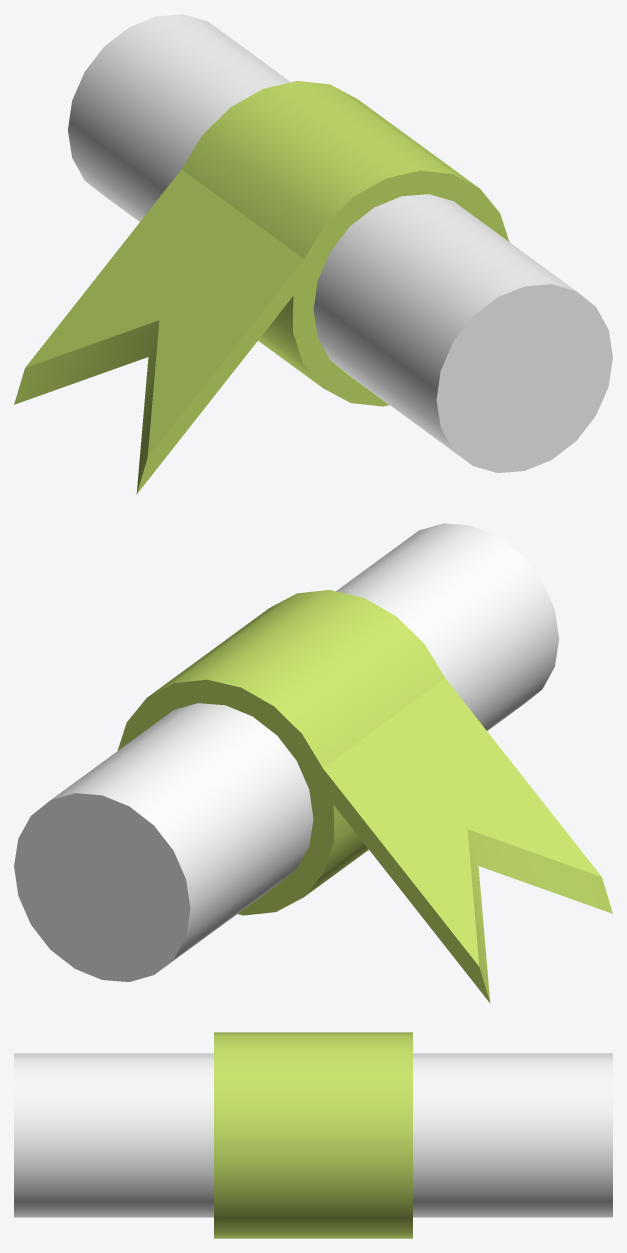
The model's file is Diploma.fbx.
3 renders of one model, top to bottom at view 1: azimuth 30°, elevation 25°; view 2: azimuth 150°, elevation 25°; view 3: azimuth 270°, elevation 25°, orthographic. The views are drawn at different scales.
Visible parts, largest first — view 1: Diploma; view 2: Diploma; view 3: Diploma.
Boxes of the visible parts, left/top/right/bottom form: Diploma: left=14, top=14, right=612, bottom=493; Diploma: left=14, top=523, right=612, bottom=1002; Diploma: left=14, top=1032, right=612, bottom=1238.
Bounding box in the file's own units: 6.45 × 4.21 × 11.01.
1 material, 1 textured.
